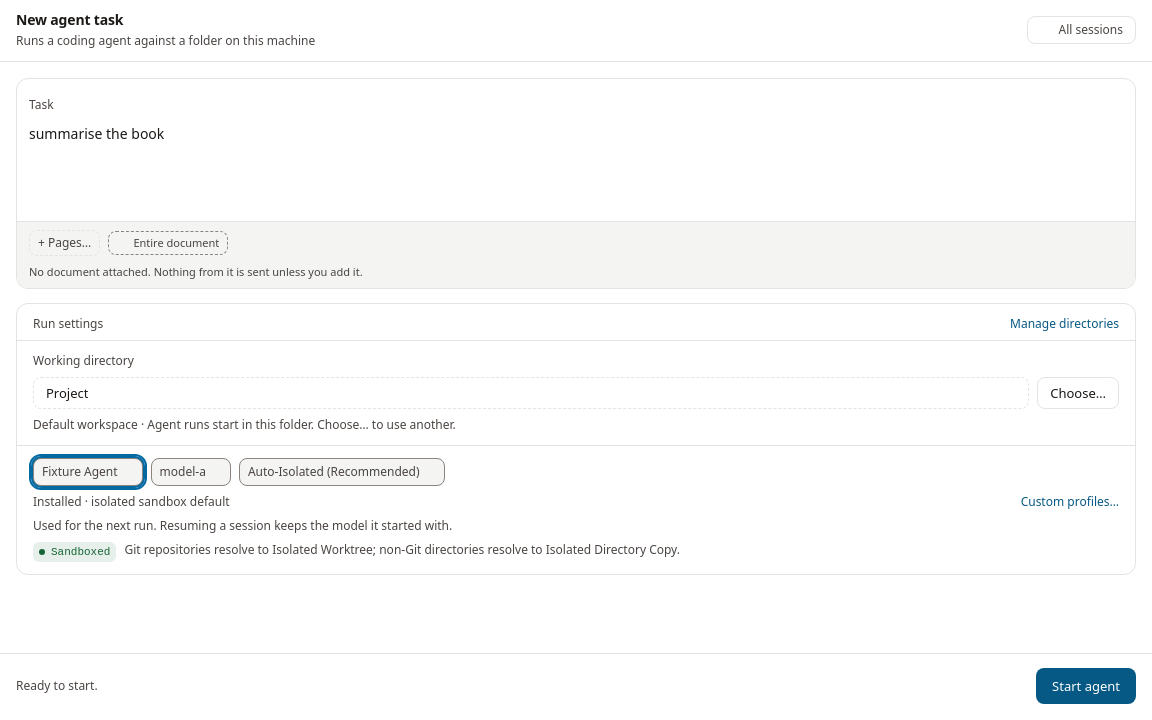
Agent run settings during a same-book refresh › keeps the Agent profile menu open and usable while the refresh is pending
Click the dropdown named "Agent profile". click: click(88, 472)
box: x1=33 y1=458 x2=143 y2=486
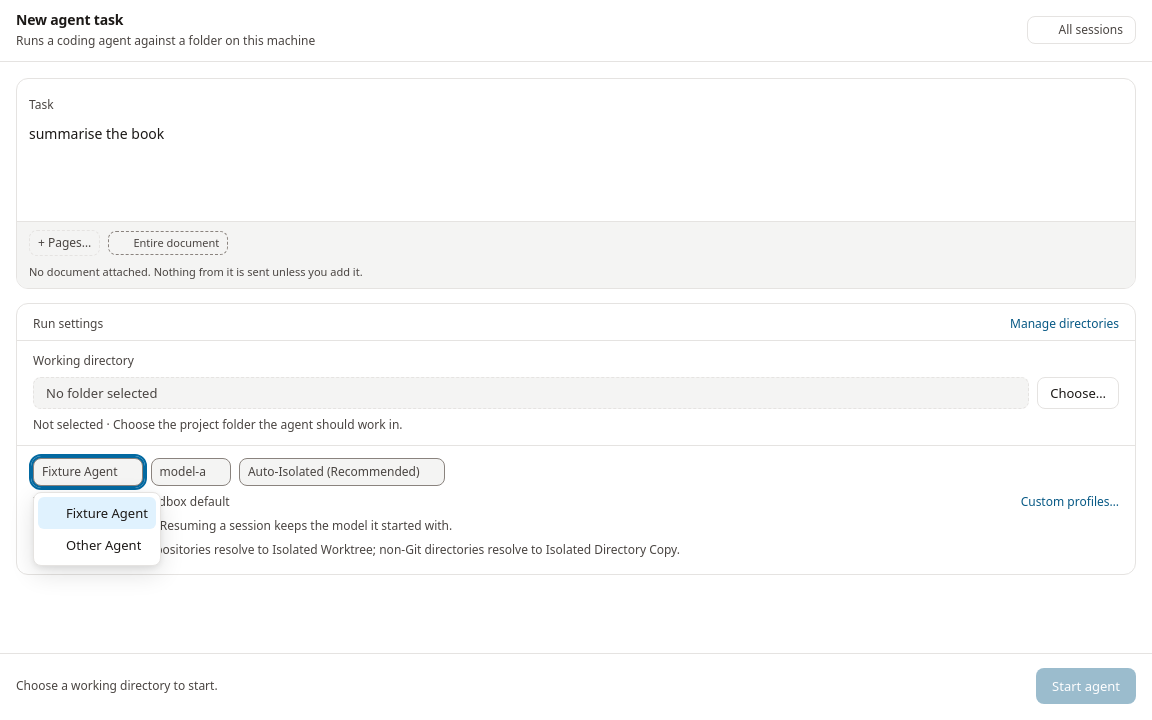
Check: the button with test id "agent-start-button" is disabled, box x1=1036 y1=668 x2=1136 y2=704
